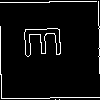E: (25, 24, 69, 59)
